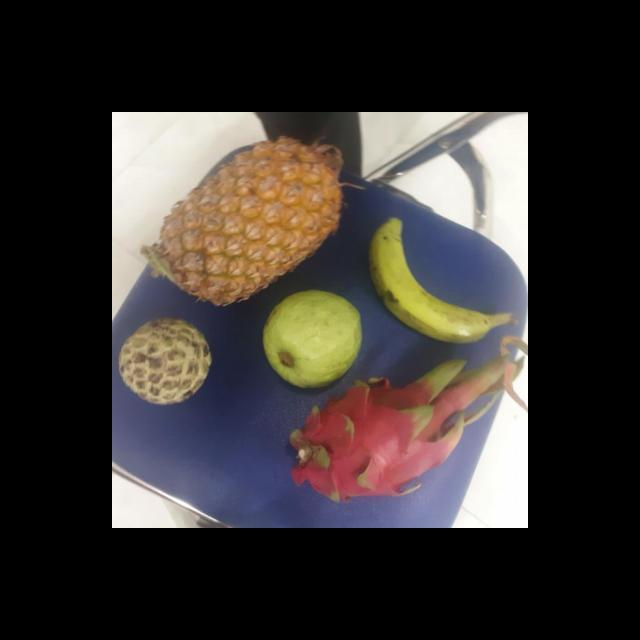Sakya fruit: (118, 319, 215, 404)
guava: (263, 294, 365, 388)
pineapple: (150, 136, 348, 302)
pitaya: (292, 370, 466, 503)
